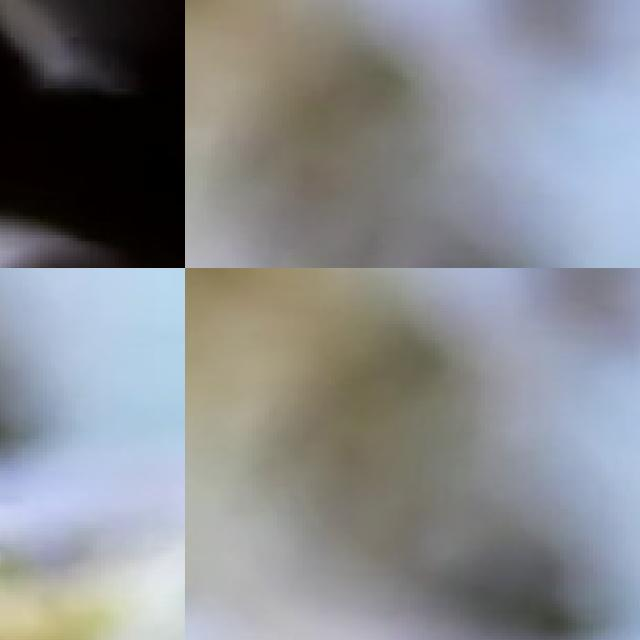fish: (0, 0, 185, 268)
